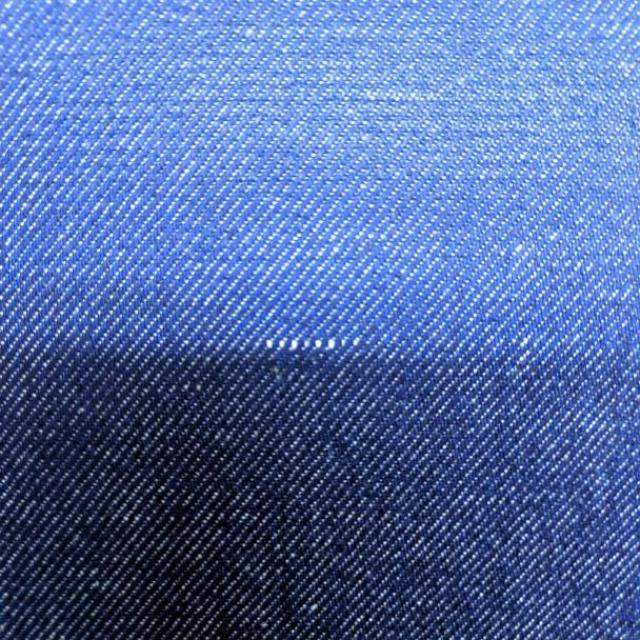Knot: (265, 338, 361, 352)
